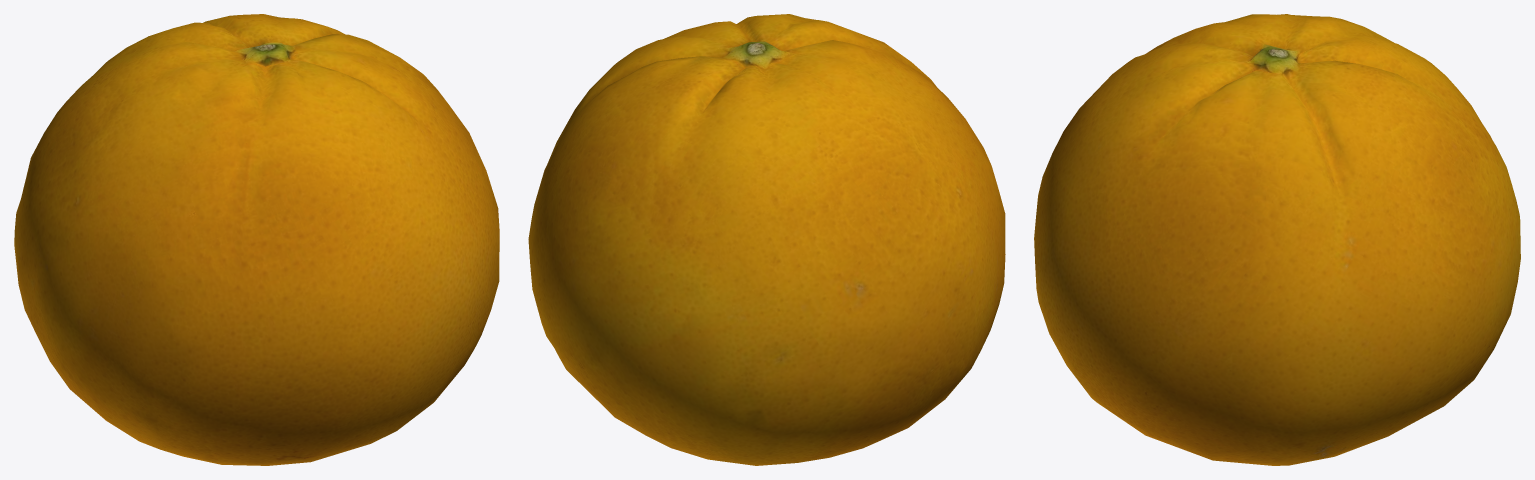
File: scene_web.glb
The picture shows the model from 3 angles, left to right: view 1: azimuth 30°, elevation 25°; view 2: azimuth 150°, elevation 25°; view 3: azimuth 270°, elevation 25°; orthographic projection.
Parts seen in each view (by area): view 1: Object_2; view 2: Object_2; view 3: Object_2.
Boxes of the visible parts, x1,y1,x2,y2 form: Object_2: (14,14,499,465); Object_2: (528,14,1005,465); Object_2: (1034,14,1520,465).
Size of the model in its own units: 0.0864 by 0.0758 by 0.0866.
1 material, 1 textured.
